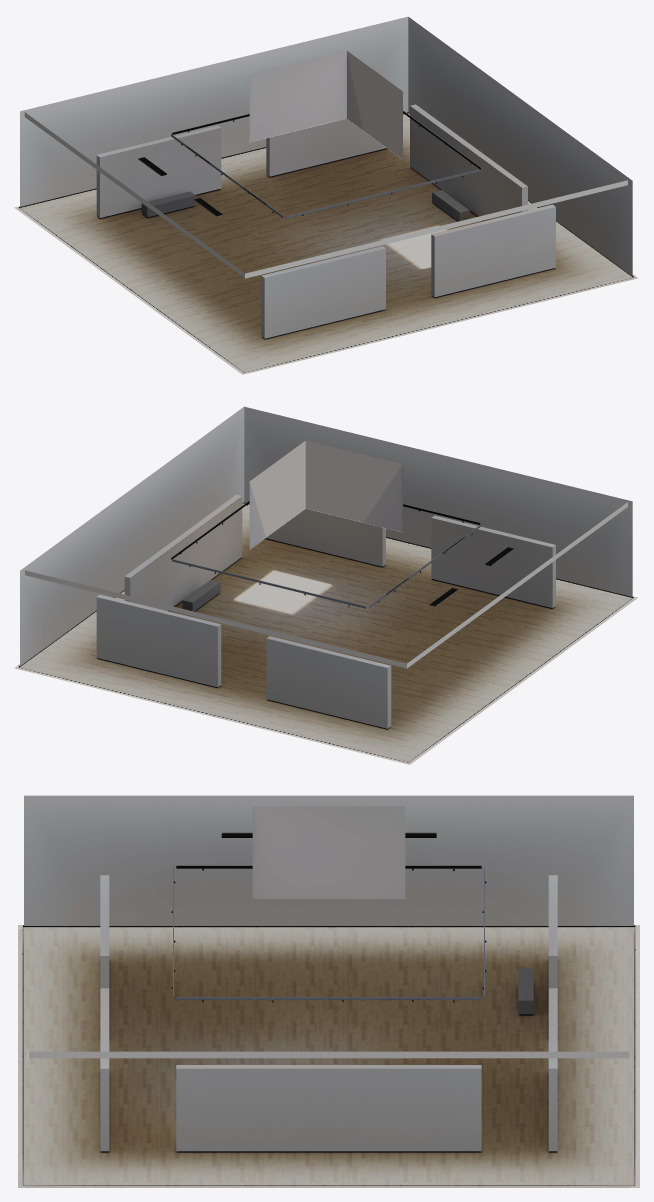
3 views of the same model, one above another, from view 1: azimuth 30°, elevation 25°; view 2: azimuth 150°, elevation 25°; view 3: azimuth 270°, elevation 25° (orthographic). The views are drawn at different scales.
Parts seen in each view (by area): view 1: floor, walls_exterior, walls, celling, props; view 2: floor, walls_exterior, walls, celling, props; view 3: floor, walls_exterior, walls, celling, props.
Boxes of the visible parts, left/top/right/bottom form: floor: left=14, top=113, right=637, bottom=374; walls_exterior: left=19, top=16, right=633, bottom=277; walls: left=96, top=104, right=555, bottom=339; celling: left=24, top=50, right=627, bottom=278; props: left=138, top=110, right=481, bottom=221; floor: left=14, top=503, right=637, bottom=764; walls_exterior: left=19, top=406, right=633, bottom=667; walls: left=96, top=494, right=555, bottom=729; celling: left=24, top=440, right=627, bottom=668; props: left=171, top=500, right=514, bottom=611; floor: left=18, top=925, right=639, bottom=1187; walls_exterior: left=22, top=795, right=635, bottom=954; walls: left=100, top=875, right=557, bottom=1152; celling: left=28, top=806, right=629, bottom=1058; props: left=171, top=832, right=533, bottom=1015.
Bounding box in the file's own units: 803 × 310 × 808.
Materials: 6 (5 with a texture image).
